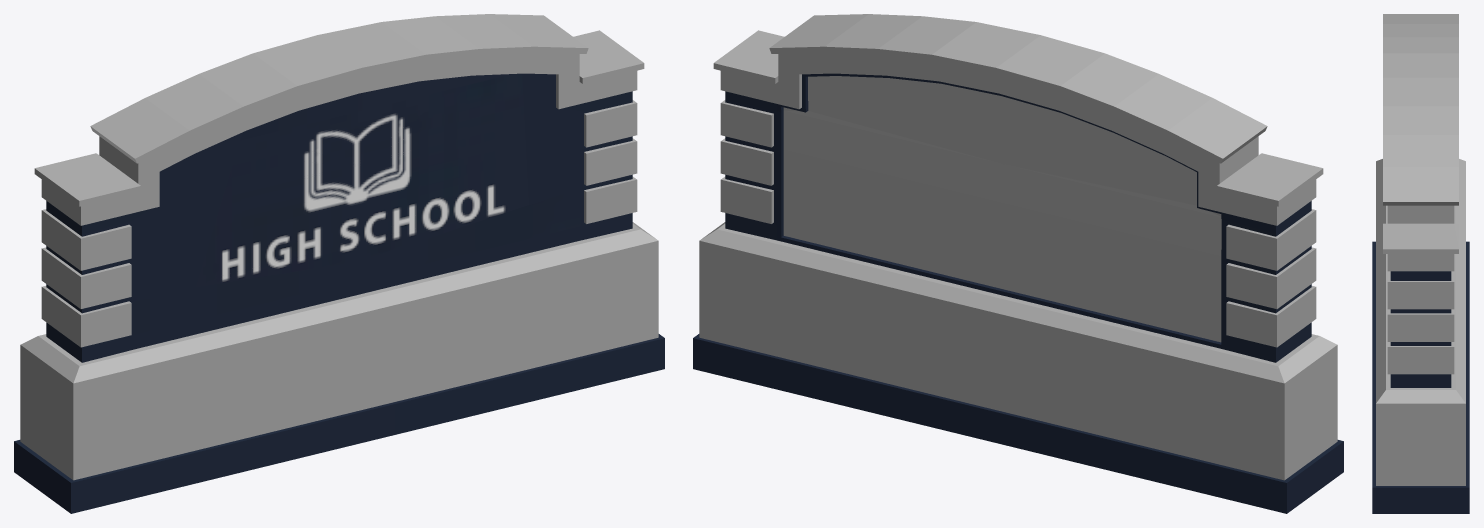
The model's file is Ext_MonumentSign01.fbx.
3 renders of one model, left to right at view 1: azimuth 30°, elevation 25°; view 2: azimuth 150°, elevation 25°; view 3: azimuth 270°, elevation 25°, orthographic. The views are drawn at different scales.
Parts seen in each view (by area): view 1: Ext_MonumentSign01; view 2: Ext_MonumentSign01; view 3: Ext_MonumentSign01.
Boxes of the visible parts, box(x1,y1,x2,y2) form: Ext_MonumentSign01: box(14, 14, 664, 513); Ext_MonumentSign01: box(693, 14, 1343, 513); Ext_MonumentSign01: box(1372, 14, 1469, 513).
Size of what is drawn, in the model's own units: 450 by 75 by 267.
